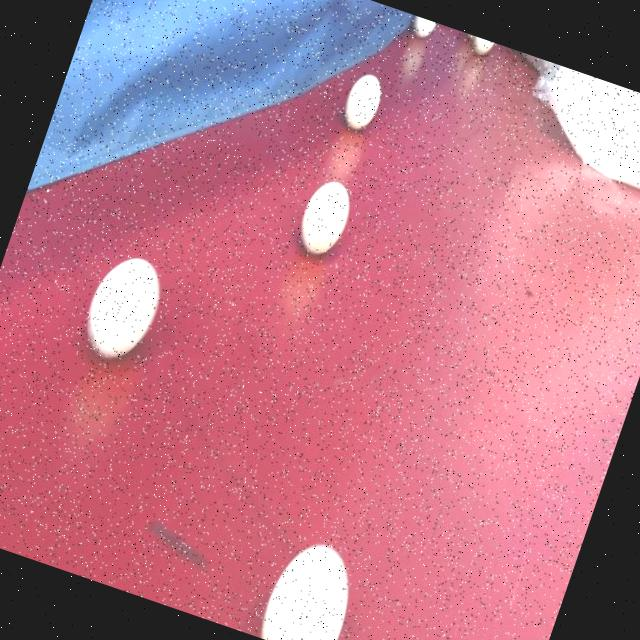ping-pong-ball: (254, 528, 371, 640), (74, 245, 174, 372), (290, 170, 362, 264), (335, 64, 392, 139), (408, 14, 440, 42), (468, 34, 498, 58)
